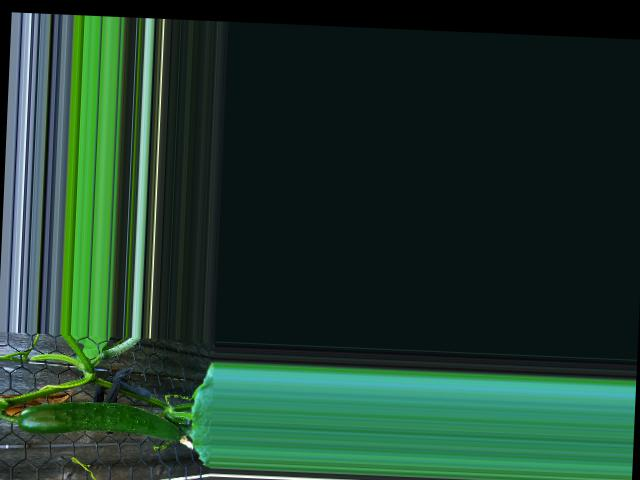cucumber: (17, 398, 181, 441)
